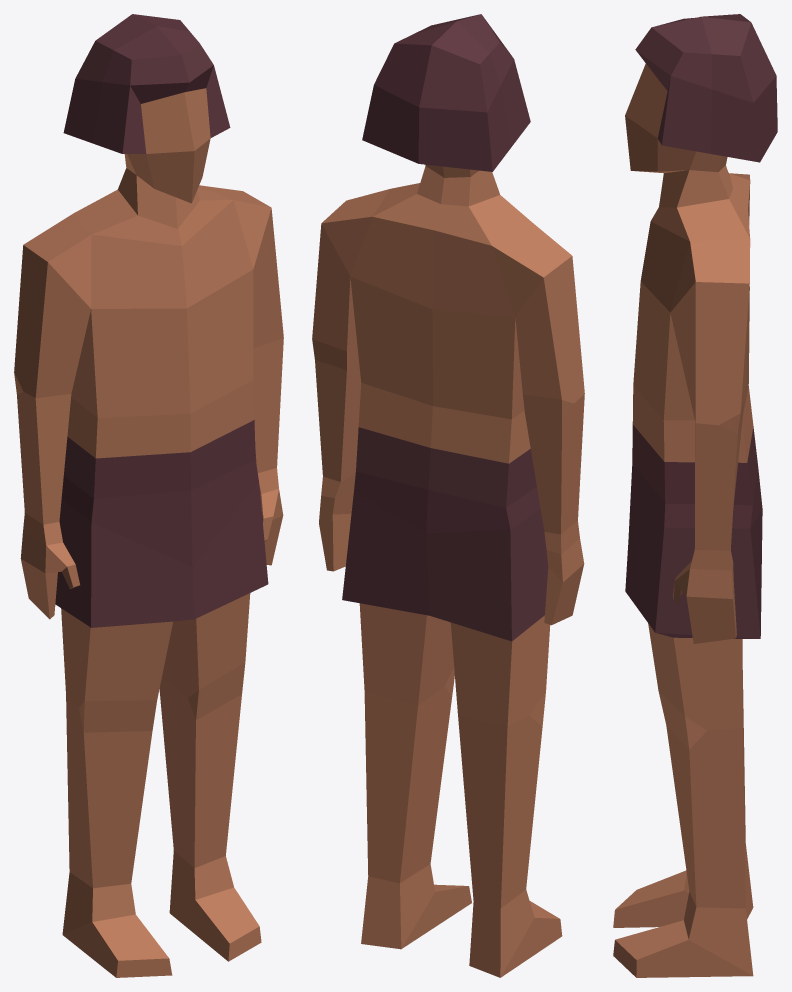
The model's file is man-egypt-worker.fbx.
The picture shows the model from 3 angles, left to right: view 1: azimuth 30°, elevation 25°; view 2: azimuth 150°, elevation 25°; view 3: azimuth 270°, elevation 25°; orthographic projection.
Parts seen in each view (by area): view 1: man-egypt-worker; view 2: man-egypt-worker; view 3: man-egypt-worker.
Boxes of the visible parts, x1,y1,x2,y2 form: man-egypt-worker: (14, 14, 283, 977); man-egypt-worker: (312, 14, 584, 977); man-egypt-worker: (613, 14, 777, 977).
Size of the model in its own units: 0.5348 by 1.86 by 0.3004.
